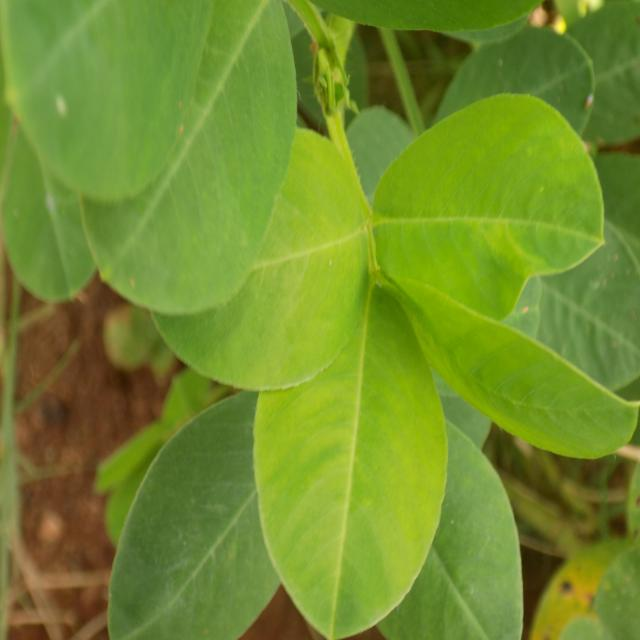Ground nut_healthy: (254, 252, 447, 640), (84, 0, 298, 312), (370, 75, 606, 331)
